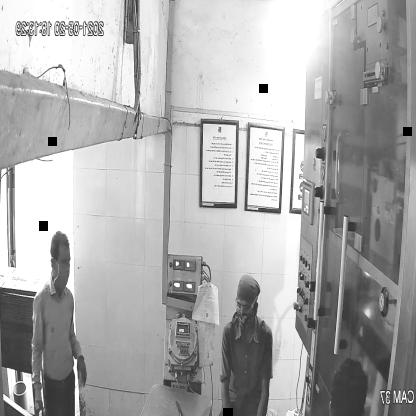goggles: (235, 292, 258, 314)
no_goggles: (52, 253, 74, 269)
